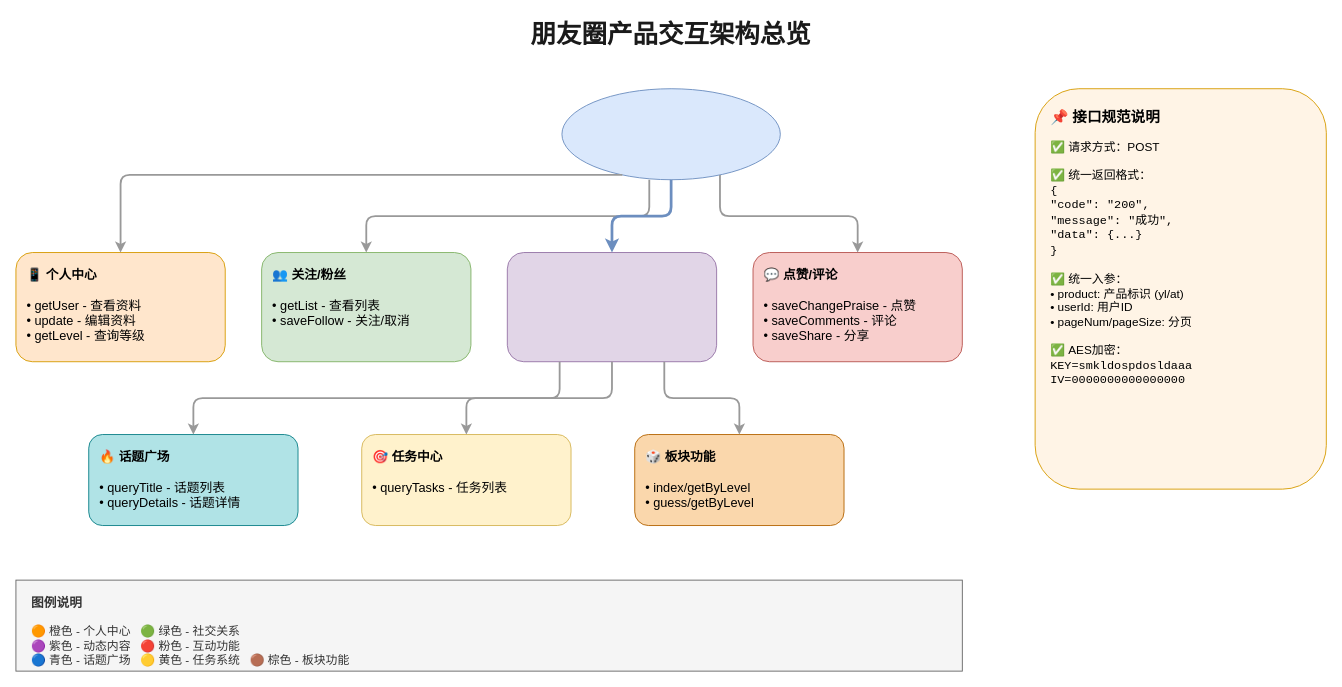
This 1342x687 diagram has some shape labels left out. Here are the shapes that lost their labels. From the top down, the centre of each, then its label:
At (x=670, y=134): "👤 用户进入 朋友圈".
At (x=611, y=307): "📝 朋友圈动态 • saveCircle - 发布动态 • pageList - 动态列表 • readCount - 浏览计数".
